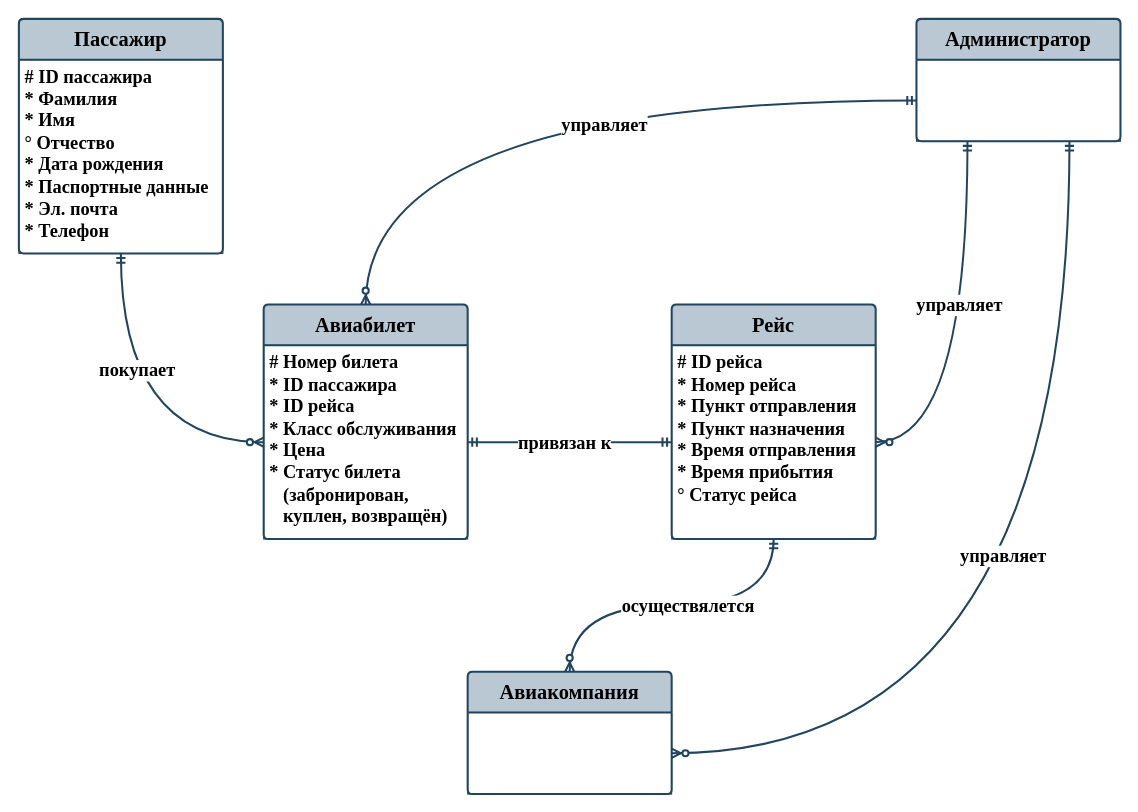
This 1138x812 diagram has some shape labels left out. Here are the shapes that lost their labels. From the top down, the centre of each, then its label:
the point at 1017,100: # ID администратора * Логин * Пароль
the point at 569,752: # ID авиакомпании * Название * Код IATA
